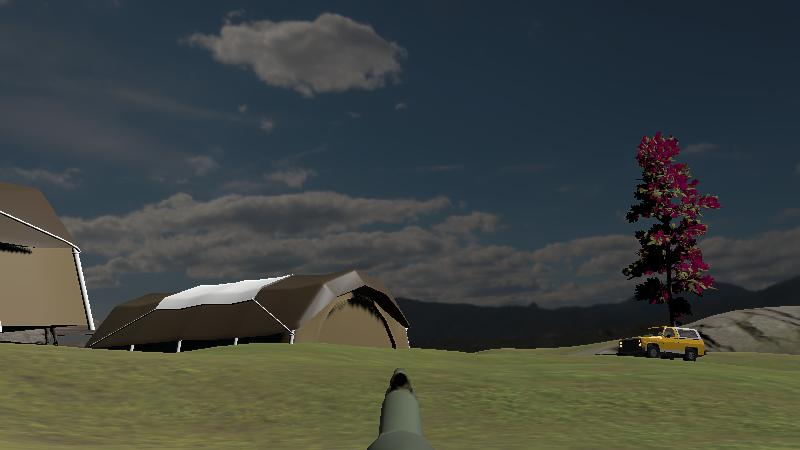car: (615, 321, 709, 366)
